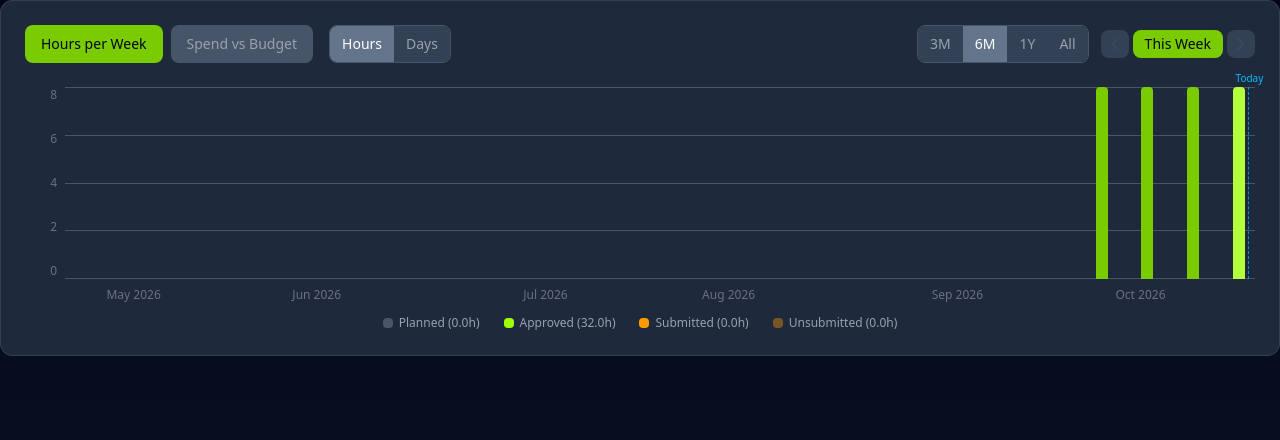
Scenario: Spend vs Budget chart with hidden figures › draws the £ chart when Billable Price is visible
The image size is (1280, 440).
Step 1. Click the button "Spend vs Budget" → {"x": 242, "y": 44}, box [171, 25, 313, 63]
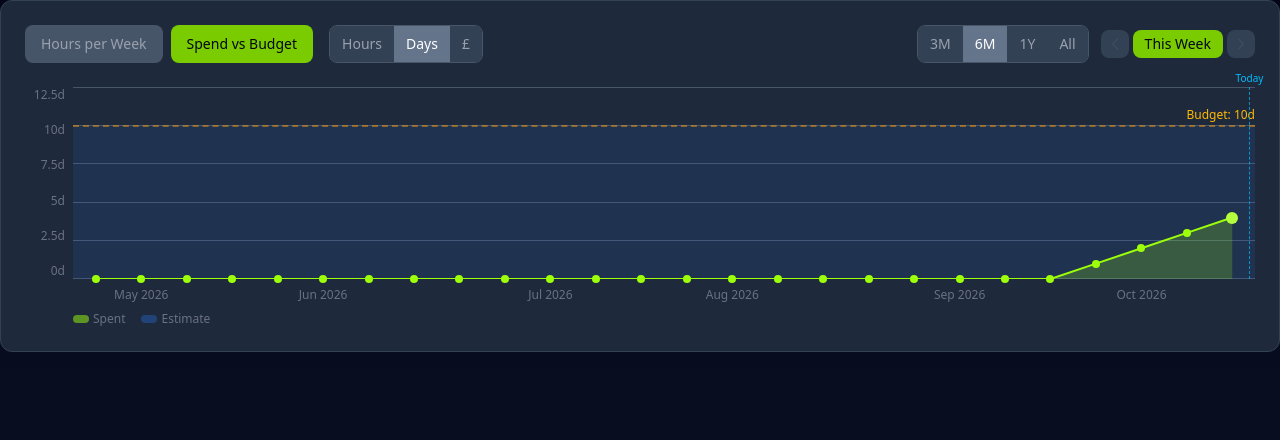
Step 2. Click the button "£" → {"x": 466, "y": 44}, box [450, 26, 482, 62]
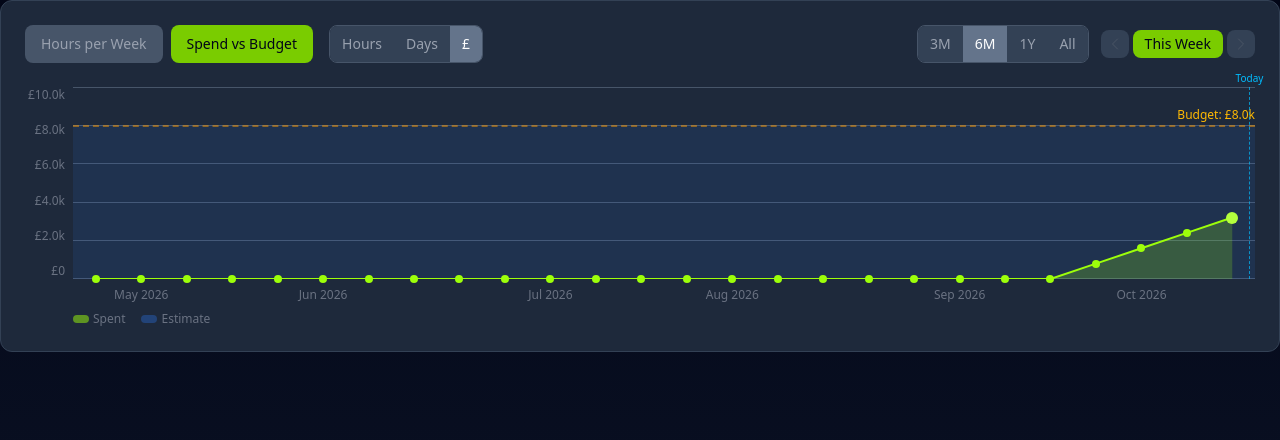
Check: the text "Budget: £8.0k" is shown, box [1177, 107, 1255, 123]
